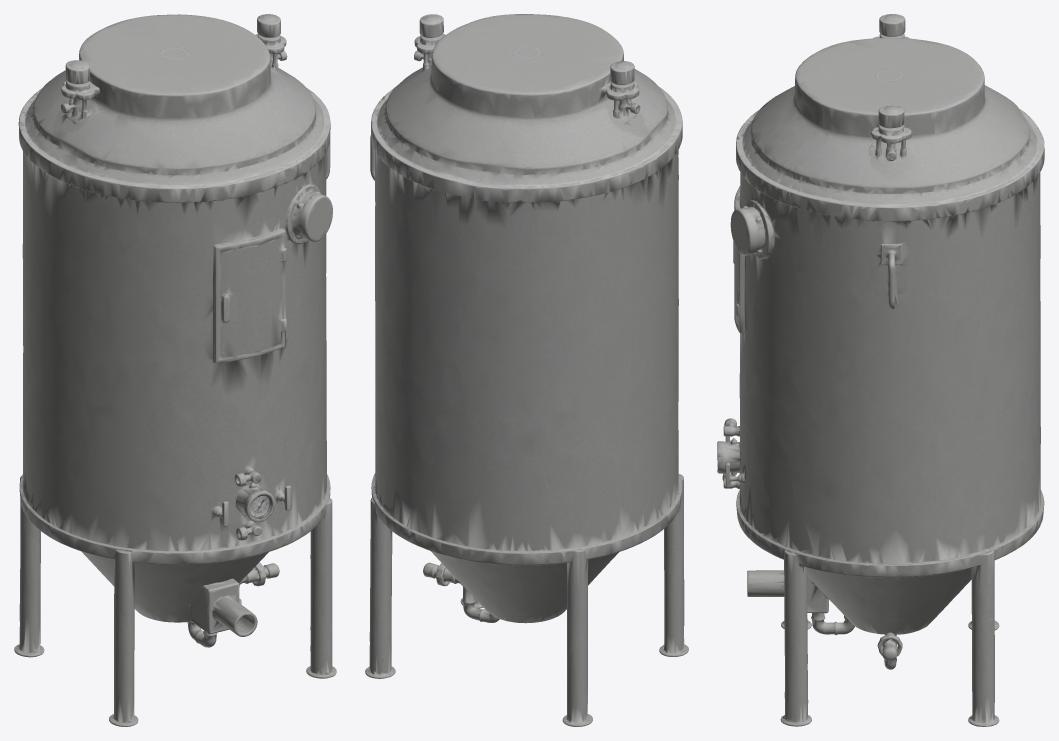
The model's file is milk-tank.glb.
3 views of the same model, side by side, from view 1: azimuth 30°, elevation 25°; view 2: azimuth 150°, elevation 25°; view 3: azimuth 270°, elevation 25° (orthographic).
Size of the model in its own units: 0.9288 by 1.9 by 0.9241.
Materials: 1 (1 with a texture image).
